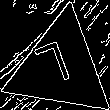L_S: (38, 38, 82, 97)
